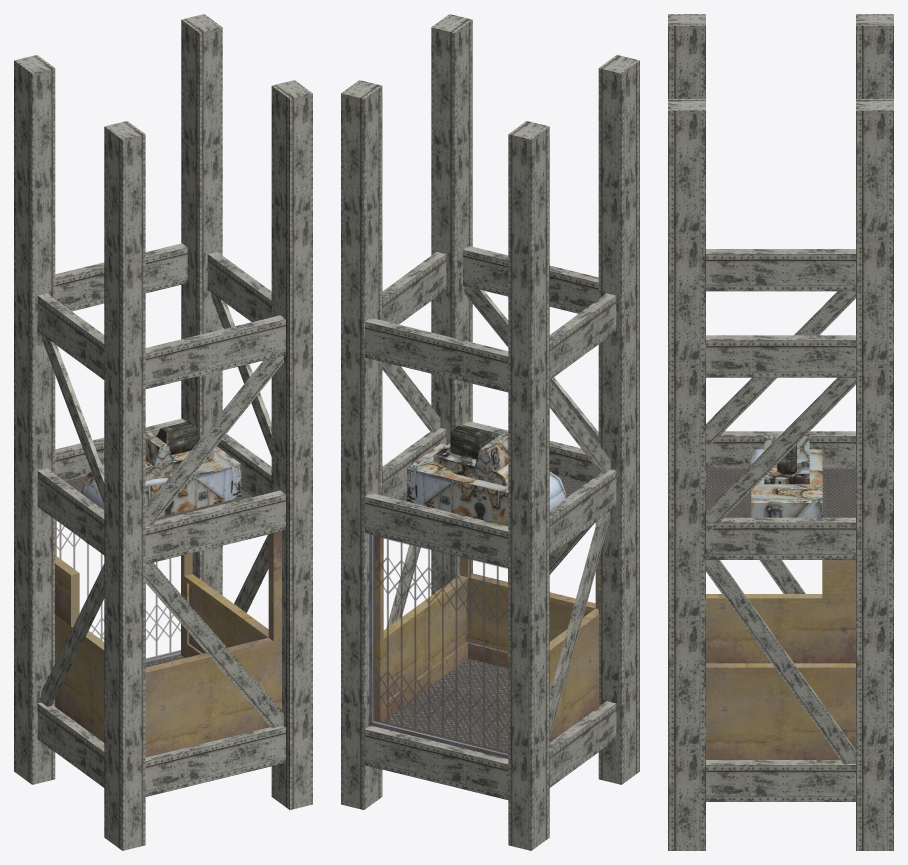
File: lift.glb
3 renders of one model, left to right at view 1: azimuth 30°, elevation 25°; view 2: azimuth 150°, elevation 25°; view 3: azimuth 270°, elevation 25°, orthographic. The views are drawn at different scales.
Parts seen in each view (by area): view 1: MetalBeams, Elevator, Door_Elevator; view 2: MetalBeams, Elevator, Door_Elevator; view 3: MetalBeams, Elevator.
Boxes of the visible parts, x1,y1,x2,y2 form: MetalBeams: (14,14,312,850); Elevator: (55,421,281,757); Door_Elevator: (56,523,180,663); MetalBeams: (341,14,639,850); Elevator: (374,425,598,752); Door_Elevator: (369,534,508,758); MetalBeams: (668,14,893,850); Elevator: (706,433,855,759).
Bounding box in the file's own units: 2.1 × 7.48 × 2.07.
6 materials, 6 textured.
